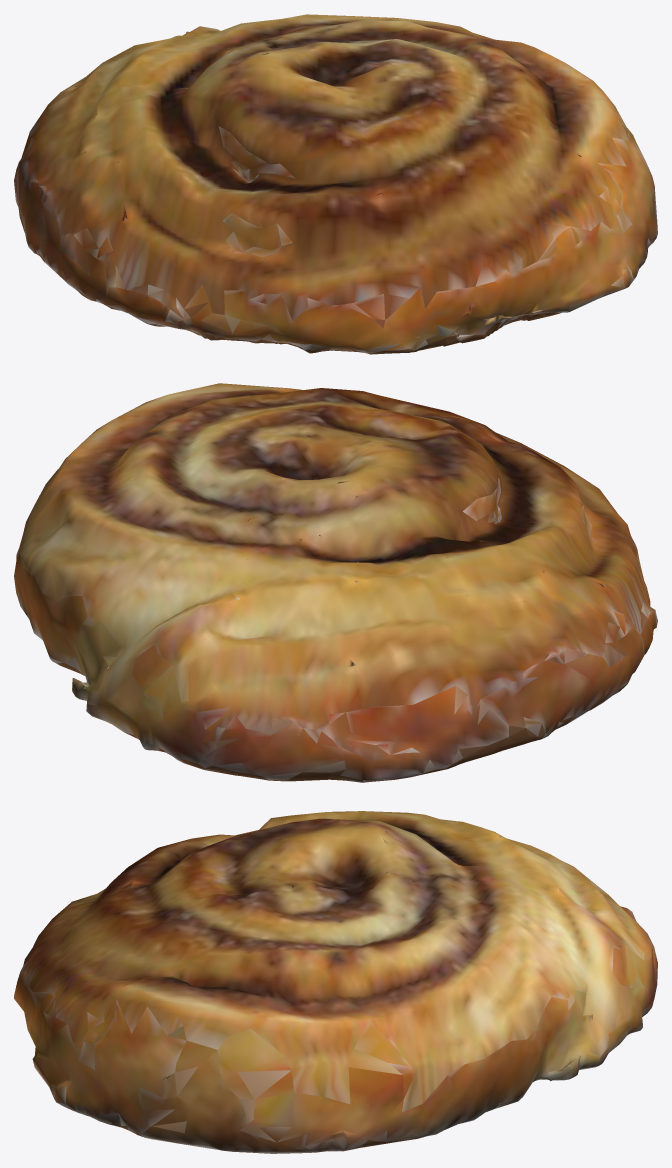
File: cinnamon_3664.obj
3 views of the same model, one above another, from view 1: azimuth 30°, elevation 25°; view 2: azimuth 150°, elevation 25°; view 3: azimuth 270°, elevation 25° (orthographic). The views are drawn at different scales.
Size of the model in its own units: 110 by 34.09 by 115.
1 material, 1 textured.
